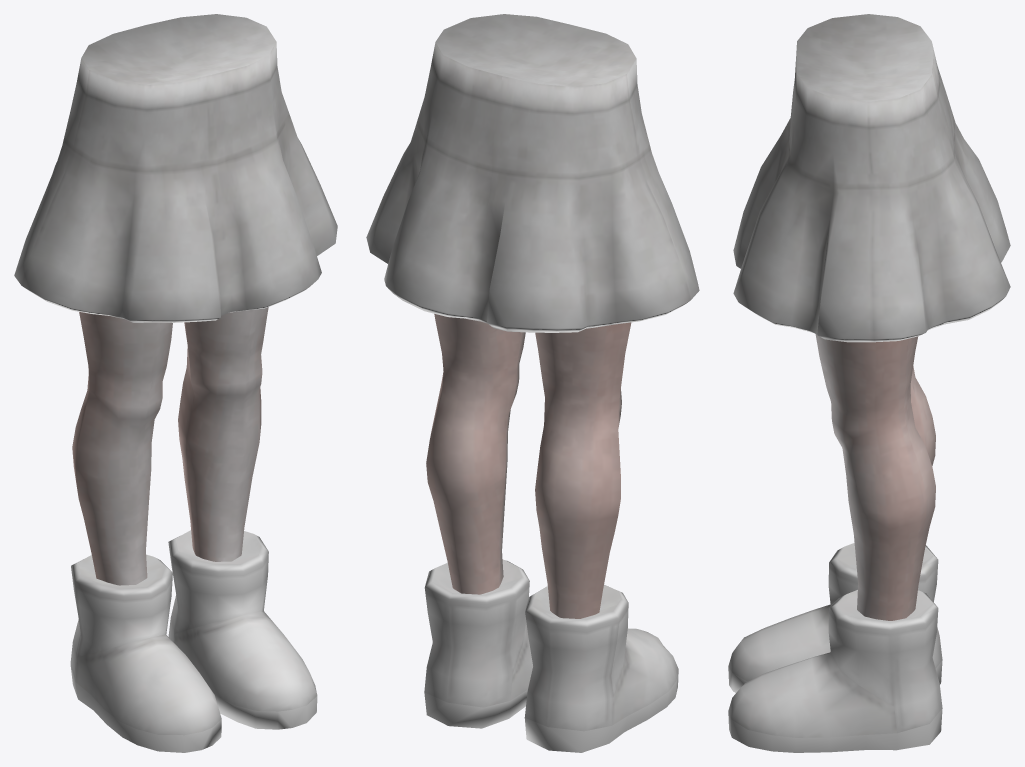
File: tr0750_00_lwb03.gltf
The picture shows the model from 3 angles, left to right: view 1: azimuth 30°, elevation 25°; view 2: azimuth 150°, elevation 25°; view 3: azimuth 270°, elevation 25°; orthographic projection. The views are drawn at different scales.
Parts seen in each view (by area): view 1: lwb03_cloth01_mesh_shape:lowerbody03, lwb03_shoes_mesh_shape:lowerbody03, lwb03_cloth02_mesh_shape:lowerbody03; view 2: lwb03_cloth01_mesh_shape:lowerbody03, lwb03_cloth02_mesh_shape:lowerbody03, lwb03_shoes_mesh_shape:lowerbody03; view 3: lwb03_cloth01_mesh_shape:lowerbody03, lwb03_shoes_mesh_shape:lowerbody03, lwb03_cloth02_mesh_shape:lowerbody03.
Part boxes in pixels (<box>): lwb03_cloth01_mesh_shape:lowerbody03: <box>14,14,337,322</box>; lwb03_shoes_mesh_shape:lowerbody03: <box>70,530,317,752</box>; lwb03_cloth02_mesh_shape:lowerbody03: <box>72,307,268,585</box>; lwb03_cloth01_mesh_shape:lowerbody03: <box>366,14,699,332</box>; lwb03_cloth02_mesh_shape:lowerbody03: <box>426,314,631,618</box>; lwb03_shoes_mesh_shape:lowerbody03: <box>424,559,678,752</box>; lwb03_cloth01_mesh_shape:lowerbody03: <box>733,14,1010,342</box>; lwb03_shoes_mesh_shape:lowerbody03: <box>728,543,942,752</box>; lwb03_cloth02_mesh_shape:lowerbody03: <box>815,334,935,620</box>.
Size of what is drawn, in the model's own units: 0.4933 by 0.9823 by 0.387.
Materials: 1 (1 with a texture image).
